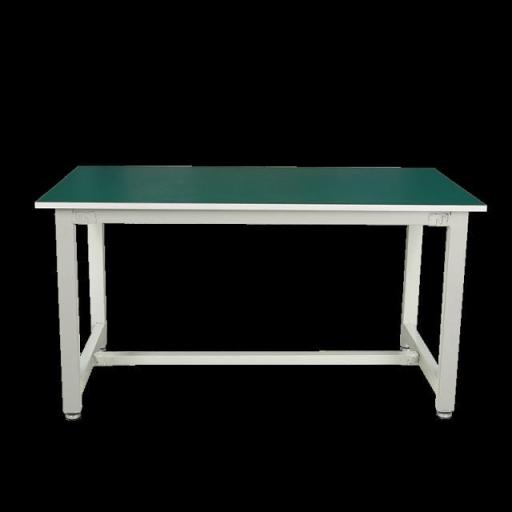table: (26, 147, 494, 438)
